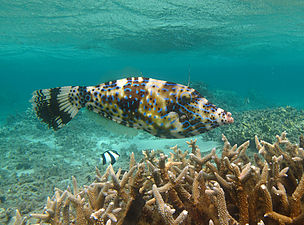Aluterus_scriptus: (30, 73, 237, 142)
